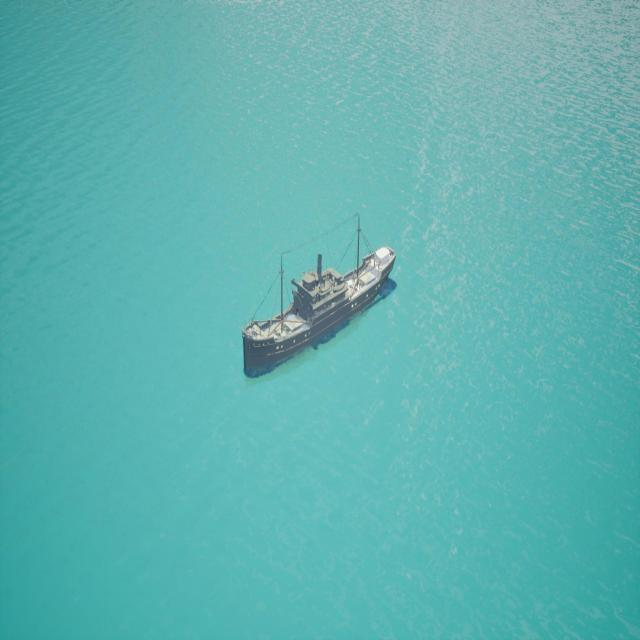fishing ship: (241, 247, 400, 382)
